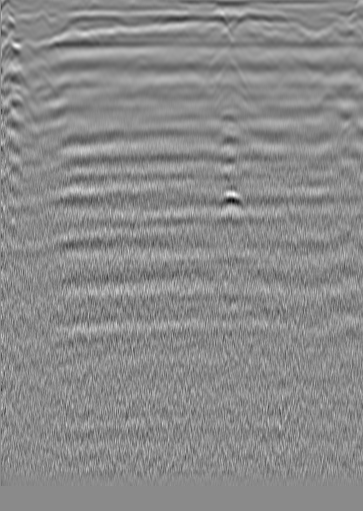가스: (217, 187, 248, 216)
상수: (318, 23, 338, 43)
오수: (32, 10, 52, 30)
우수: (175, 18, 195, 38)
